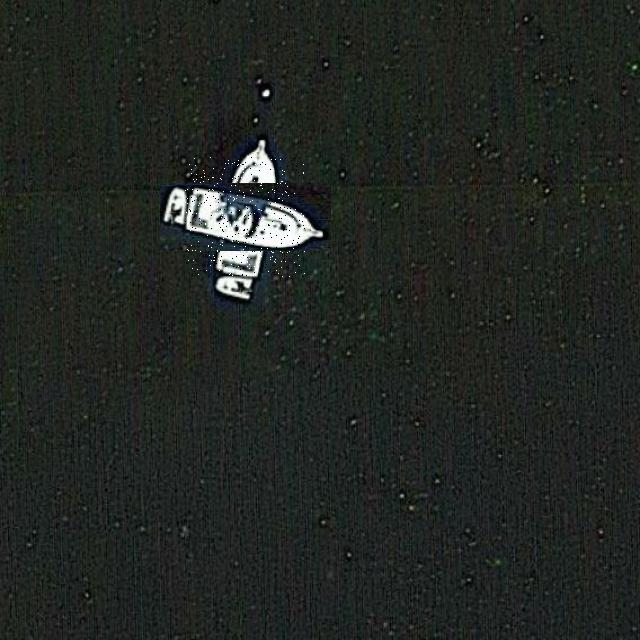boat: (185, 157, 305, 277)
